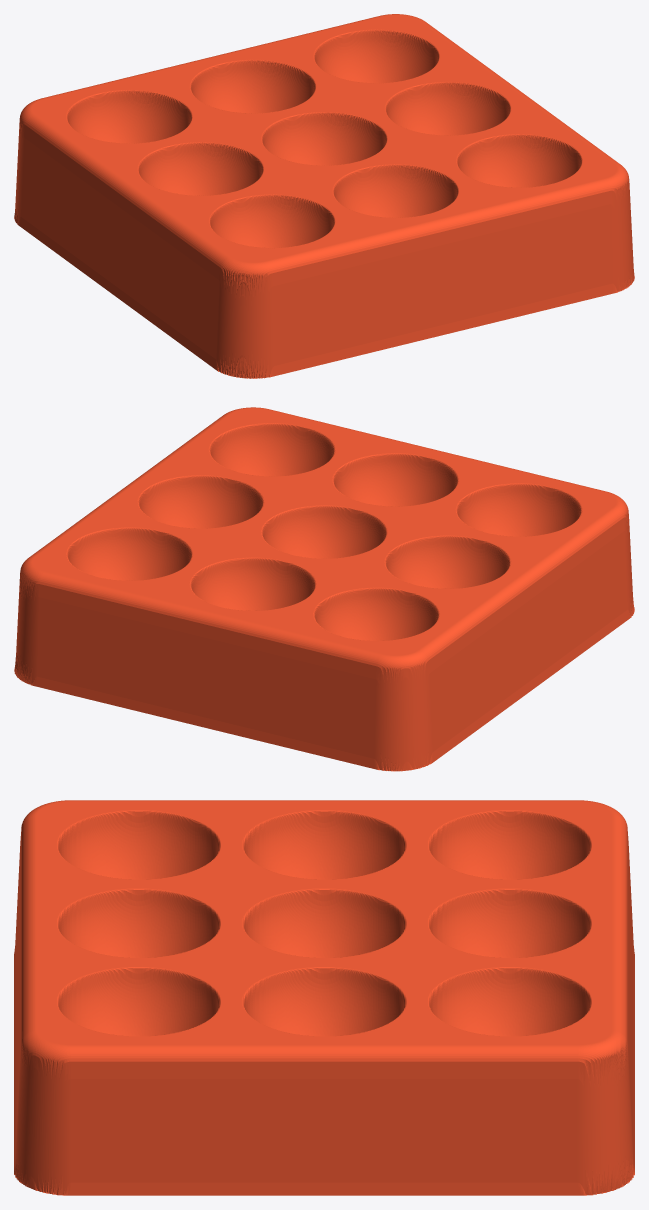
Rendered from mold.glb.
3 views of the same model, one above another, from view 1: azimuth 30°, elevation 25°; view 2: azimuth 150°, elevation 25°; view 3: azimuth 270°, elevation 25° (orthographic). The views are drawn at different scales.
Visible parts, largest first — view 1: geometry_0; view 2: geometry_0; view 3: geometry_0.
Part boxes in pixels (left/top/right/bottom): geometry_0: left=14, top=14, right=634, bottom=378; geometry_0: left=14, top=407, right=634, bottom=771; geometry_0: left=14, top=800, right=634, bottom=1195.
Size of the model in its own units: 0.0984 by 0.0247 by 0.0984.
